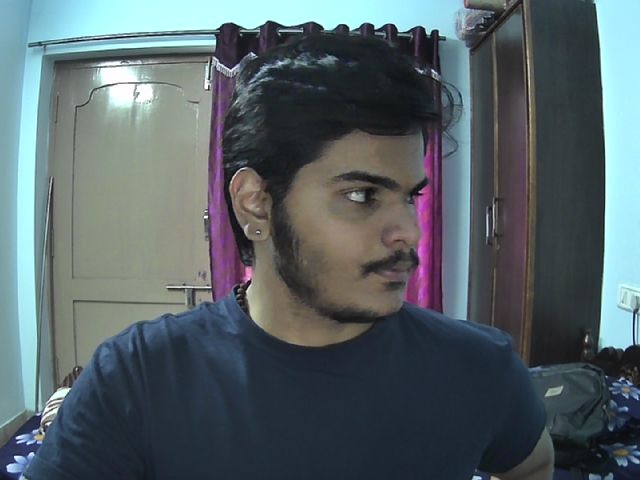NoMask: (273, 216, 418, 325)
